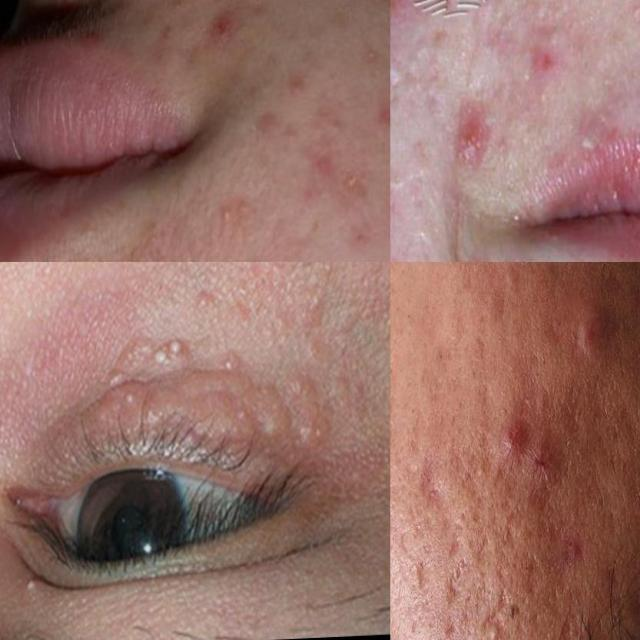Pimples: (508, 422, 590, 528), (434, 84, 499, 172), (280, 366, 356, 438), (222, 384, 292, 440), (128, 392, 200, 434), (572, 298, 614, 368), (147, 323, 209, 367), (441, 528, 474, 608), (527, 52, 583, 92), (415, 446, 450, 509), (512, 548, 552, 603), (492, 402, 524, 466), (406, 543, 436, 597), (100, 372, 144, 400), (368, 96, 390, 136), (390, 0, 424, 23)
